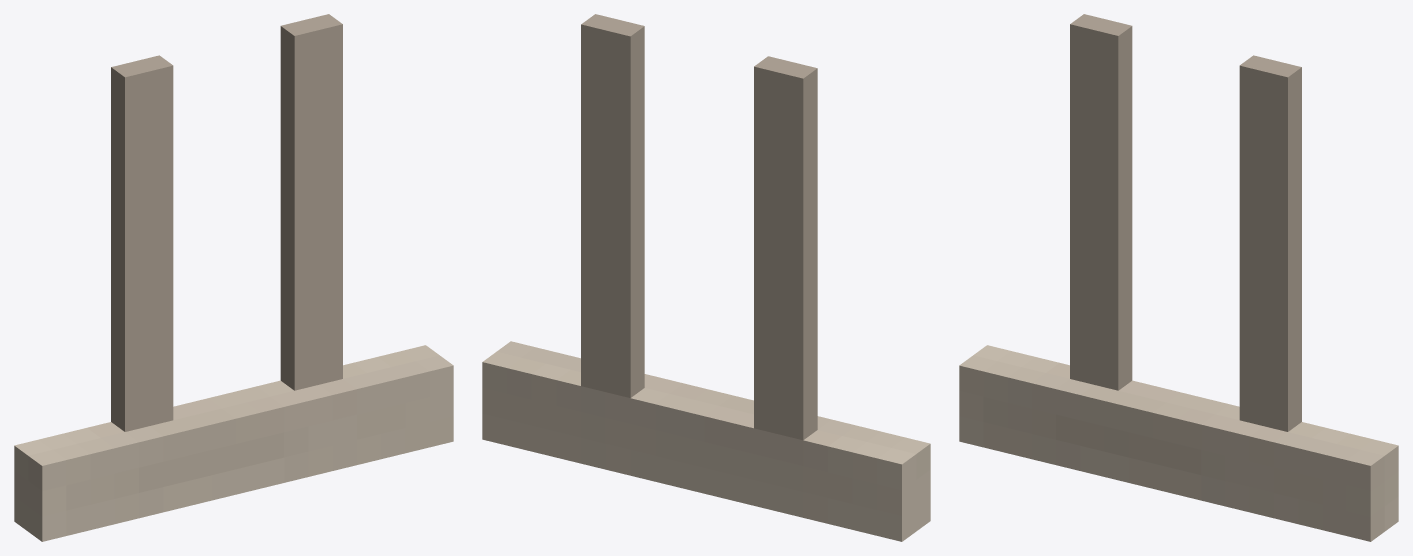
Rendered from palazzo18.glb.
The picture shows the model from 3 angles, left to right: view 1: azimuth 30°, elevation 25°; view 2: azimuth 150°, elevation 25°; view 3: azimuth 330°, elevation 25°; orthographic projection.
Visible parts, largest first — view 1: Marcapiano.Decorato.Verticale; view 2: Marcapiano.Decorato.Verticale; view 3: Marcapiano.Decorato.Verticale.
Part boxes in pixels (x1,y1,x2,y2): Marcapiano.Decorato.Verticale: [14, 14, 453, 541]; Marcapiano.Decorato.Verticale: [482, 14, 930, 541]; Marcapiano.Decorato.Verticale: [959, 14, 1398, 541].
Size of the model in its own units: 17 by 17 by 2.
Materials: 1 (1 with a texture image).
